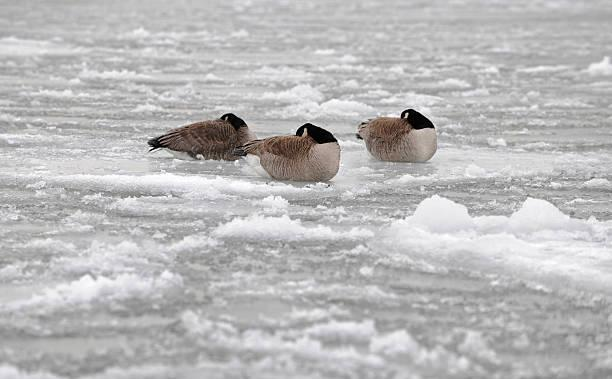Canadian-Goose: (248, 118, 347, 186), (150, 109, 249, 165), (357, 107, 441, 165)
